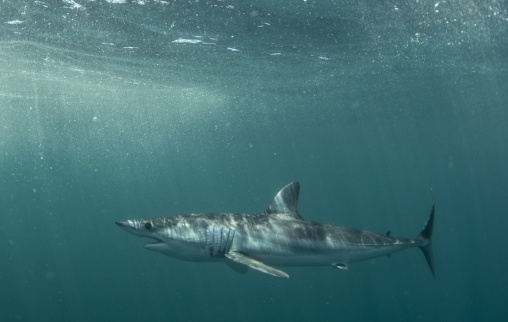Mako: (115, 177, 450, 288)
